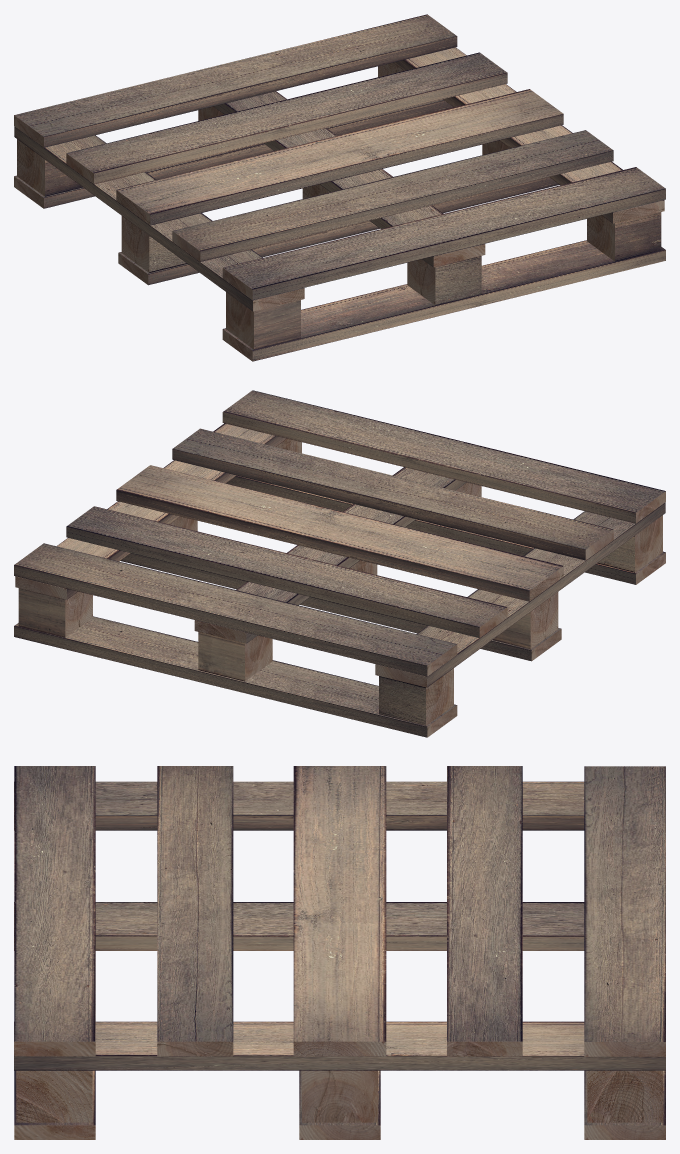
The model's file is !palete_0.fbx.
3 renders of one model, top to bottom at view 1: azimuth 30°, elevation 25°; view 2: azimuth 150°, elevation 25°; view 3: azimuth 270°, elevation 25°, orthographic. The views are drawn at different scales.
Visible parts, largest first — view 1: plank4, plank5, plank2, plank6, plank3, plank1, plank8, plank10, plank7, plank11, plank9, block1 (+4 smaller); view 2: plank4, plank2, plank5, plank3, plank6, plank10, plank8, plank1, plank7, plank11, plank9, block9 (+4 smaller); view 3: plank4, plank5, plank2, plank3, plank6, plank11, plank8, plank7, block3, block7, block4, plank10 (+2 smaller).
Boxes of the visible parts, x1,y1,x2,y2 form: plank4: (116,89,563,225); plank5: (14,14,457,147); plank2: (222,167,665,300); plank6: (66,52,507,184); plank3: (172,130,613,261); plank1: (222,240,665,361); plank8: (14,126,304,311); plank10: (14,99,453,208); plank7: (213,91,485,267); plank11: (393,47,664,223); plank9: (118,177,559,285); block1: (226,292,300,349); plank4: (116,465,563,601); plank2: (222,390,665,523); plank5: (14,543,457,676); plank3: (172,428,613,560); plank6: (66,506,507,637); plank10: (14,616,457,737); plank8: (375,502,665,687); plank1: (226,475,665,584); plank7: (194,467,466,643); plank11: (15,423,286,599); plank9: (120,553,561,661); block9: (379,668,453,725); plank4: (293,766,386,1056); plank5: (584,766,665,1056); plank2: (14,766,95,1056); plank3: (157,766,233,1056); plank6: (447,766,522,1056); plank11: (14,1021,665,1070); plank8: (14,781,584,830); plank7: (14,902,584,950); block3: (16,1070,92,1122); block7: (587,1070,663,1122); block4: (302,1070,377,1122); plank10: (584,1070,665,1139).
Size of the model in its own units: 120 by 19.99 by 120.
